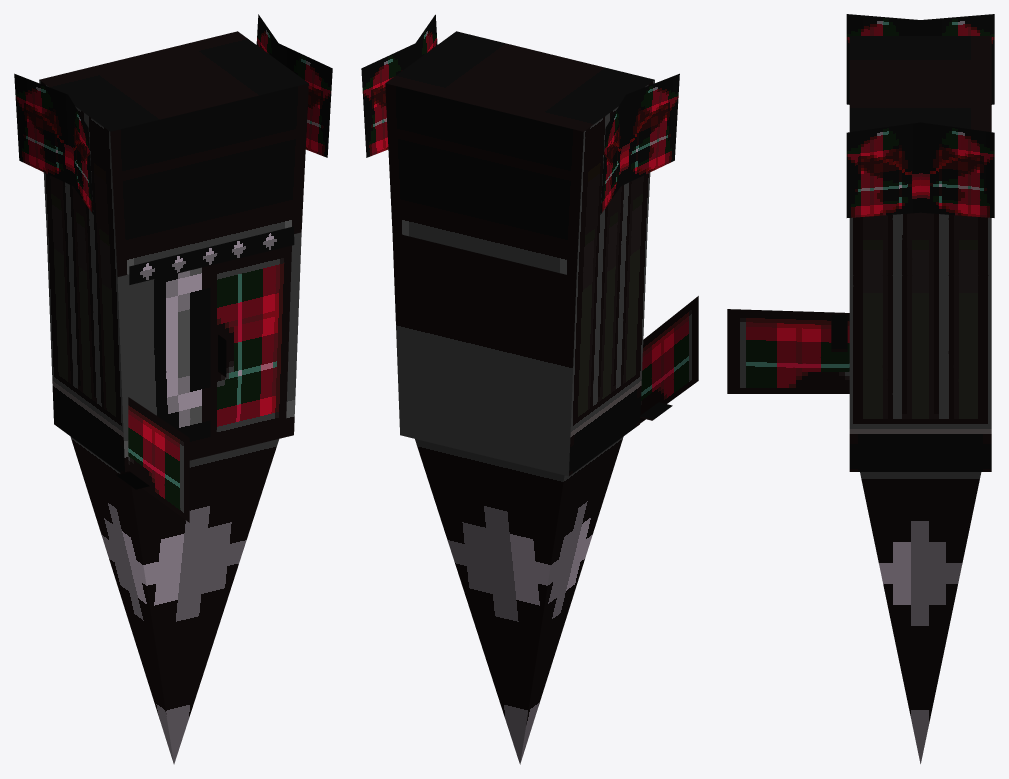
3 renders of one model, left to right at view 1: azimuth 30°, elevation 25°; view 2: azimuth 150°, elevation 25°; view 3: azimuth 270°, elevation 25°, orthographic.
Parts seen in each view (by area): view 1: 3833kg3_ser14; view 2: 3833kg3_ser14; view 3: 3833kg3_ser14.
Part boxes in pixels (x1,y1,x2,y2): 3833kg3_ser14: [14, 14, 332, 764]; 3833kg3_ser14: [361, 14, 698, 764]; 3833kg3_ser14: [727, 14, 994, 763].
Bounding box in the file's own units: 0.9265 × 2.52 × 0.8826.
3 materials, 3 textured.
